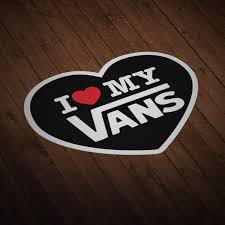vans: (66, 81, 185, 147)
